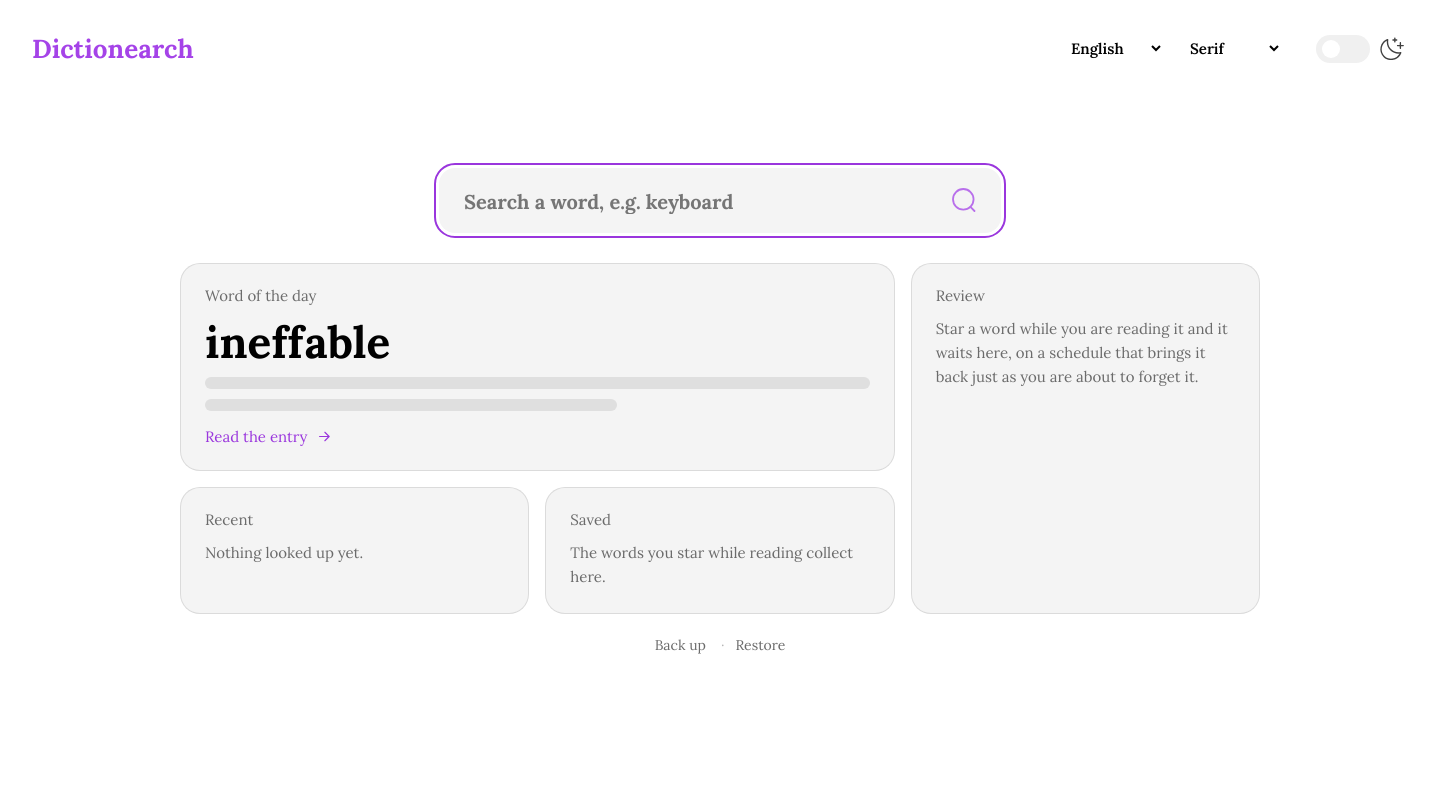
Test: long entries collapse, and open on request
This screenshot has width=1440, height=810.
In the dropdown named "Search for a word": (684, 200) x1=440 y1=169 x2=928 y2=232, type "set"
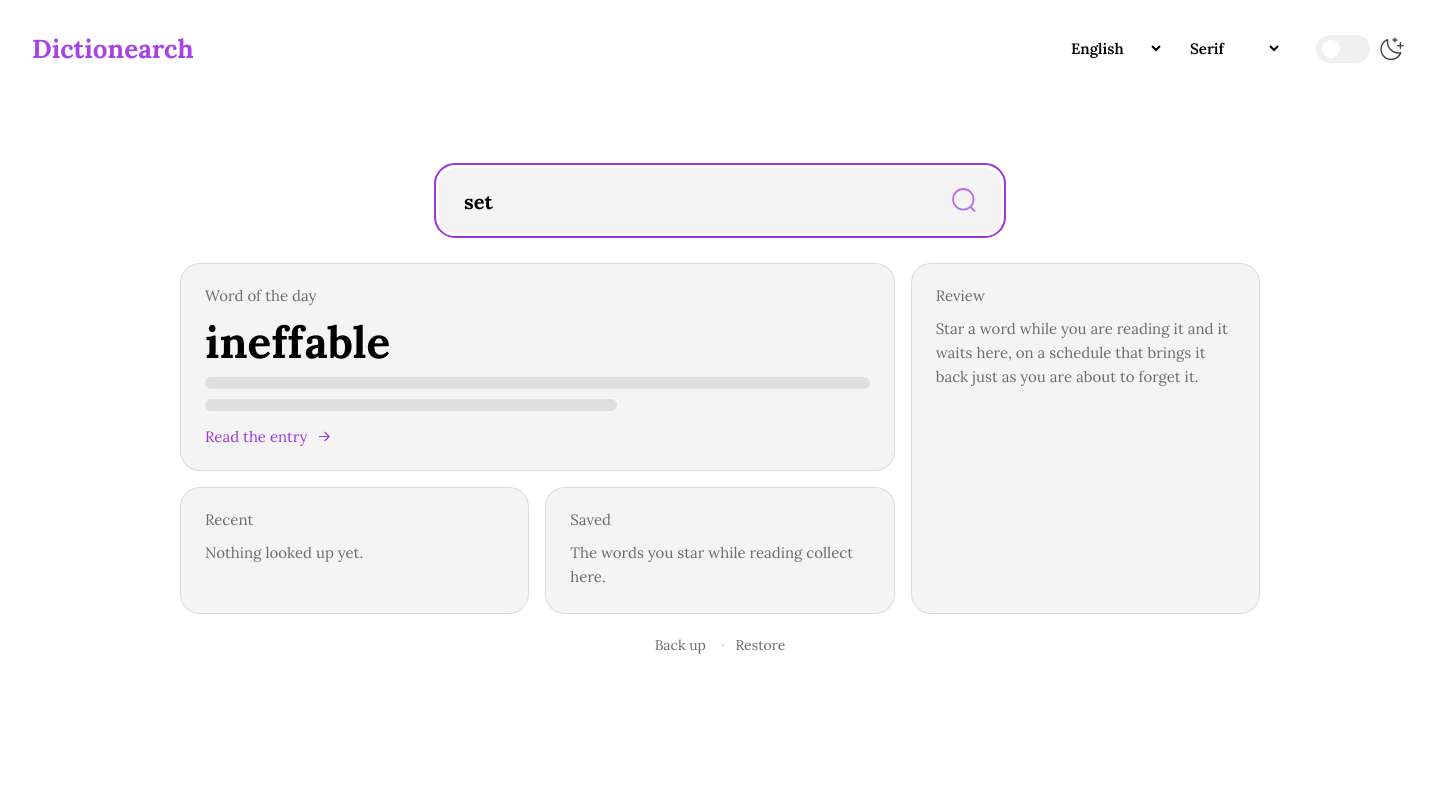
Submit the form named "Search for a word", box x1=439 y1=168 x2=1001 y2=233
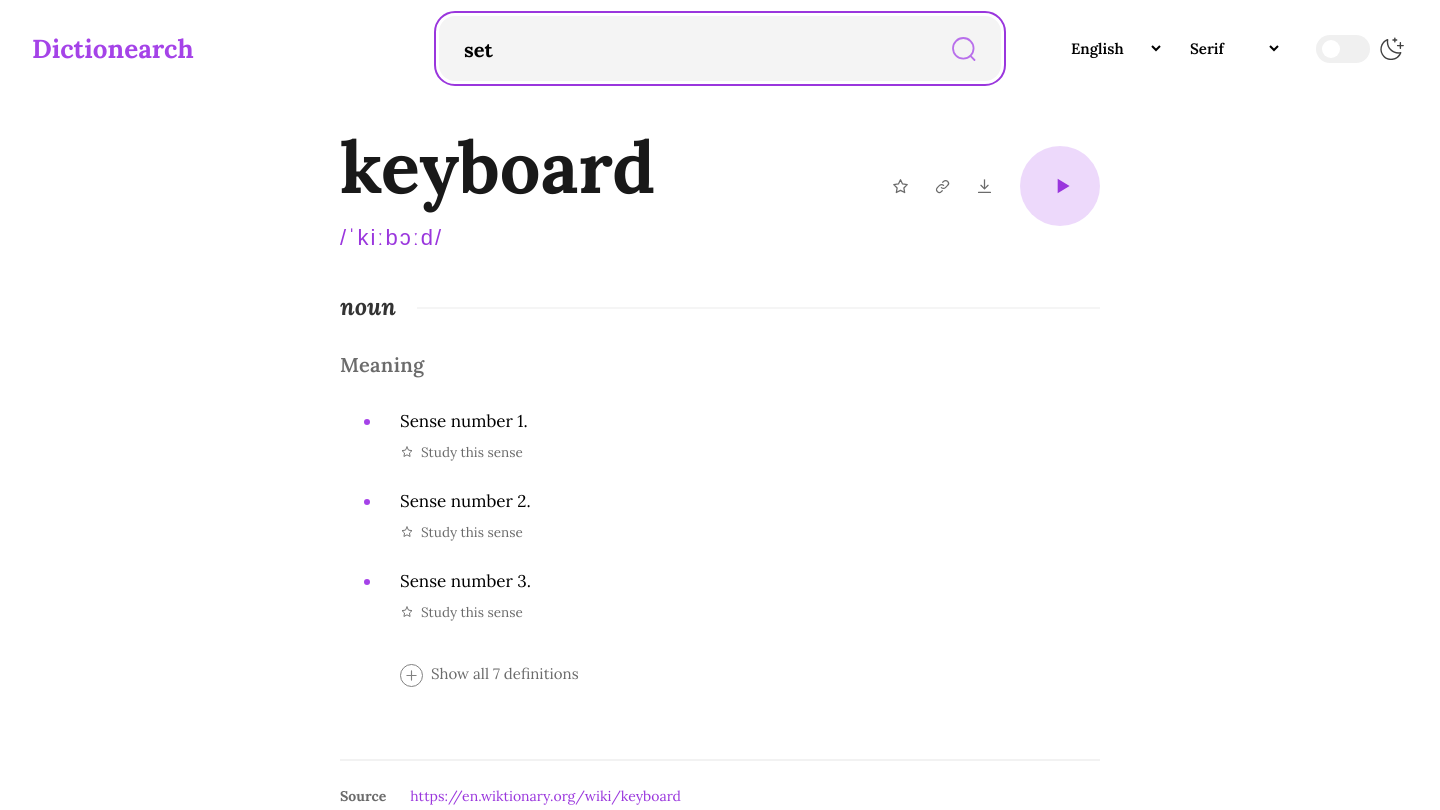
Expected: the text "Sense number 4." is not shown
Expected: the text "Sense number 3." is shown, x1=400 y1=570 x2=531 y2=592
Click the button "Show all 7 definitions": (489, 676) x1=400 y1=664 x2=579 y2=687
(page scrolled)
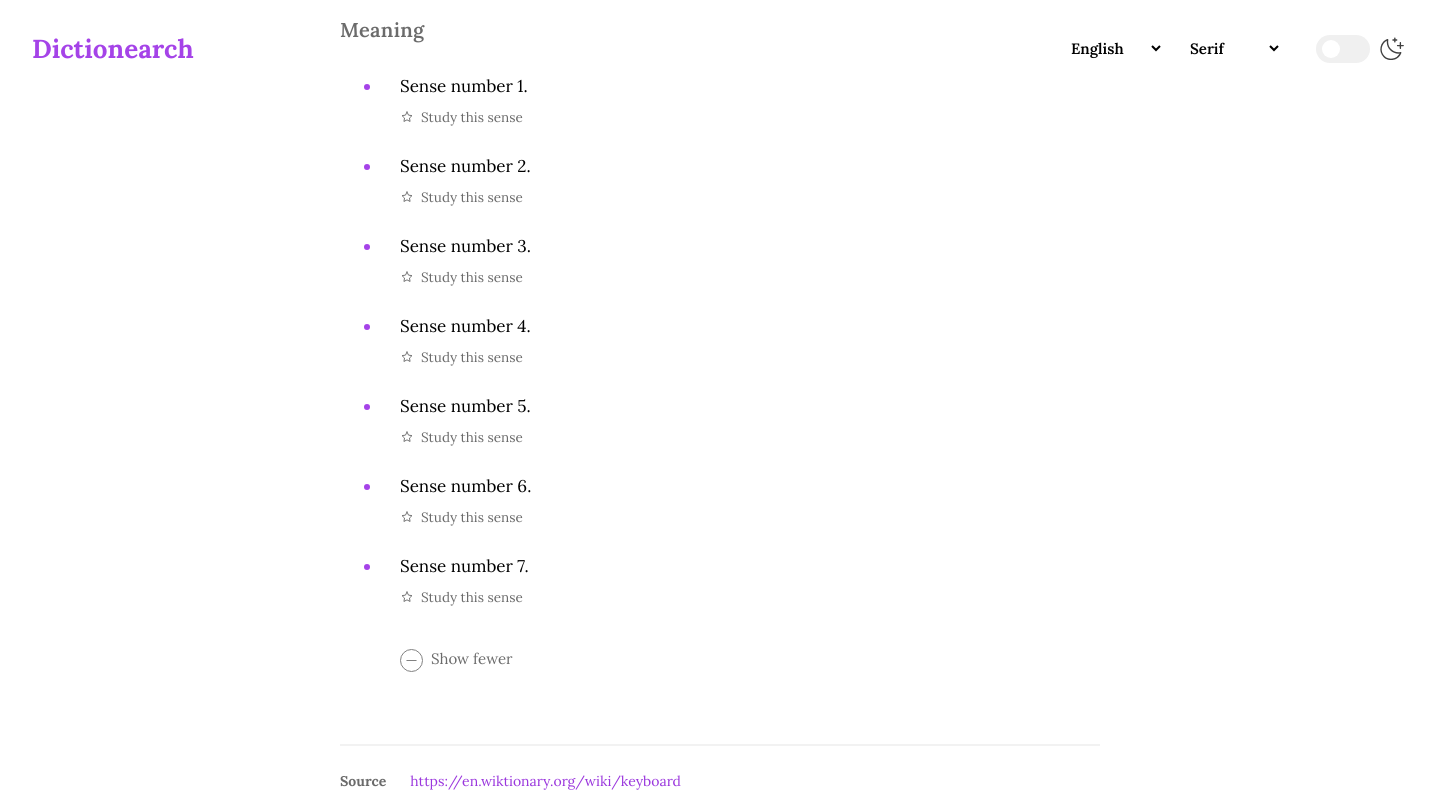
Expected: the text "Sense number 7." is shown, x1=400 y1=555 x2=529 y2=577
Click the button "Show fewer": (456, 660) x1=400 y1=649 x2=513 y2=672
(page scrolled)
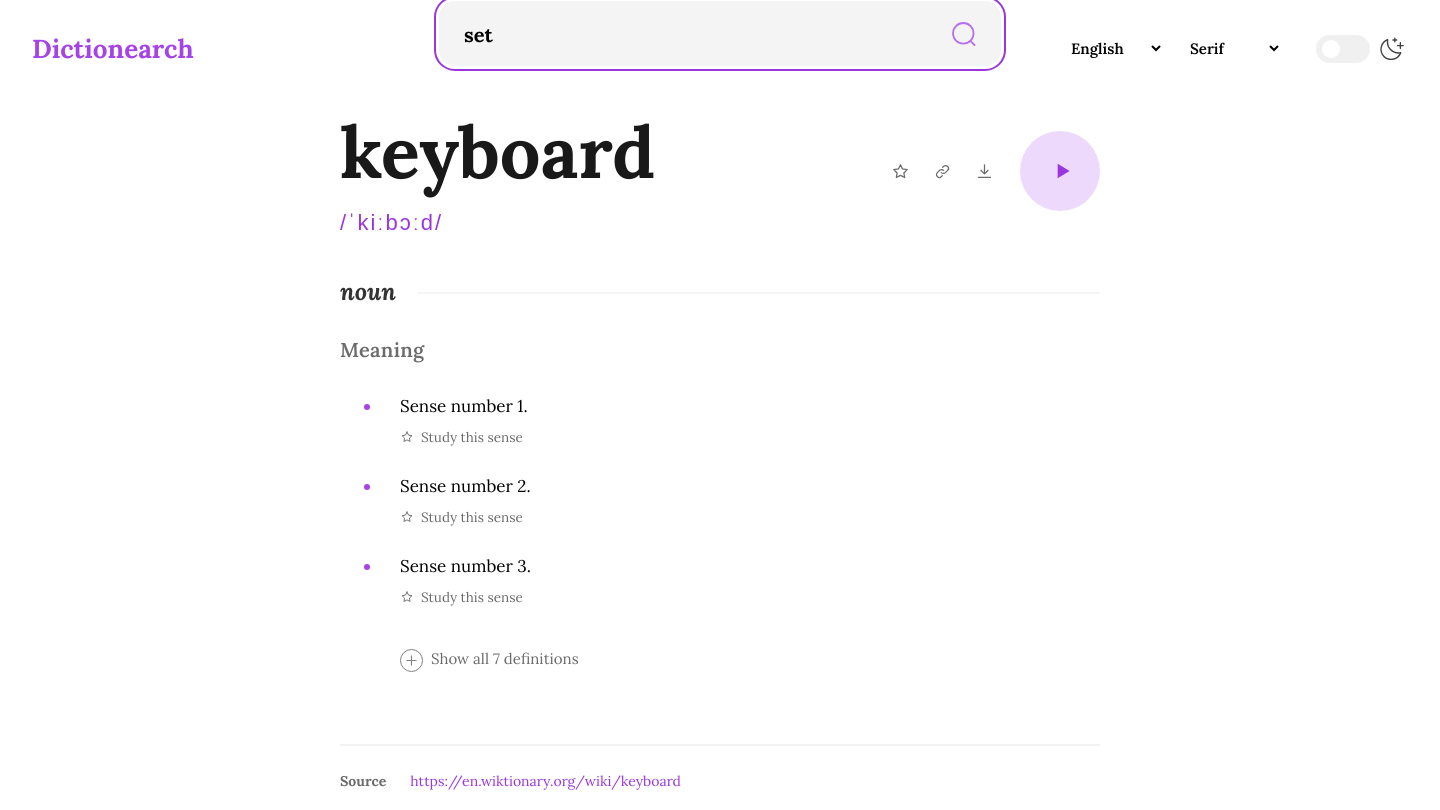
Expected: the text "Sense number 7." is gone
